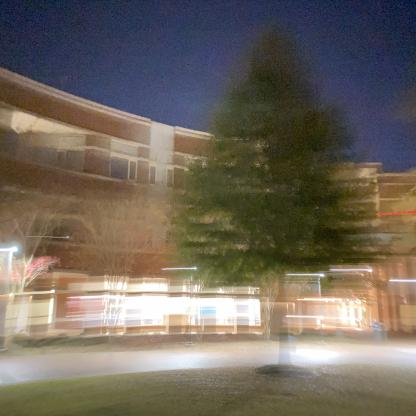eb2: (1, 61, 416, 334)
